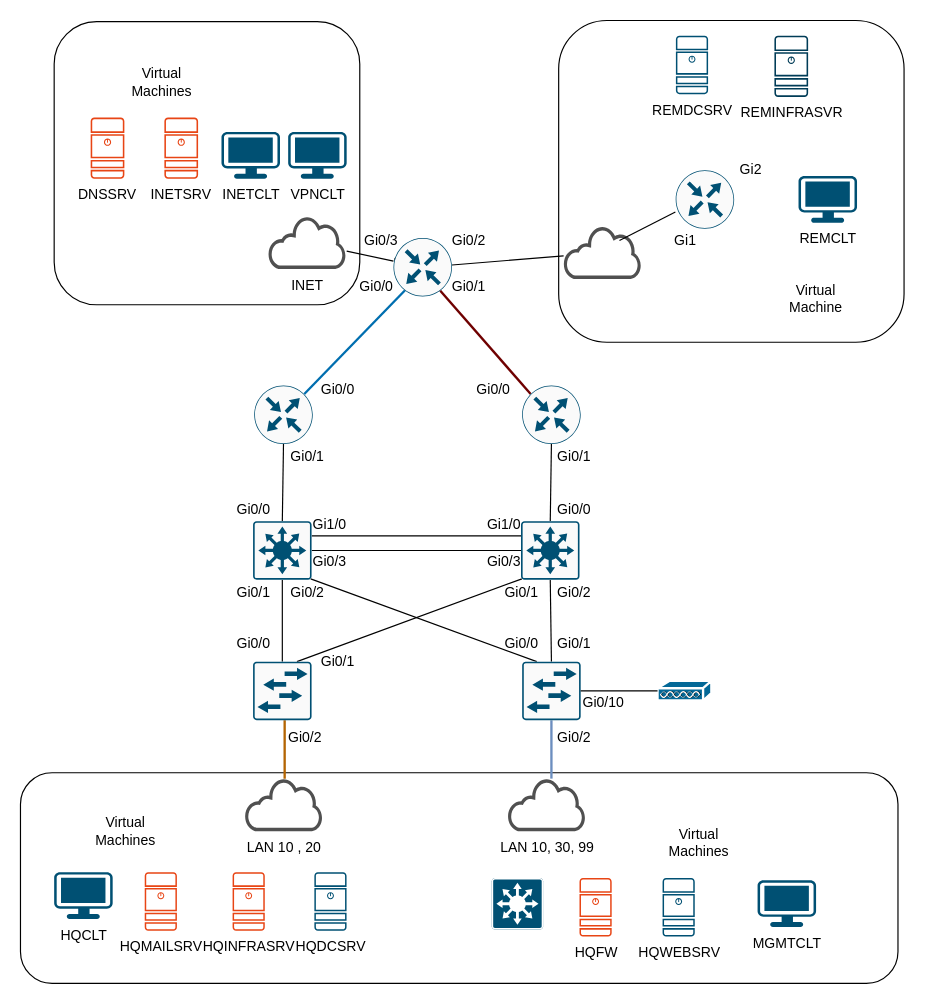
This 925x1004 diagram has some shape labels left out. The shapes that lost their labels are listed below. From the top down, each one's centre as x and y in pixels, then its label:
At point 602,252: "MAN".
At point 684,690: "AP VLAN 20, 40,50,99".
At point 517,903: "WLC Cisco 9800".
